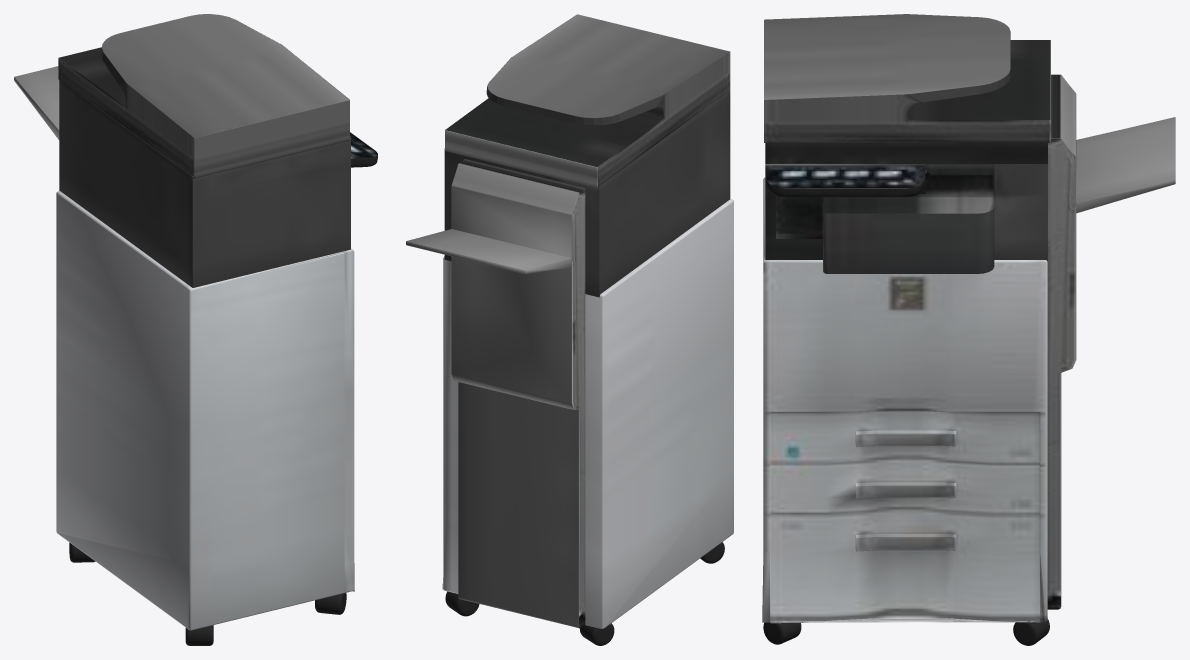
The model's file is printer_01_no cam.fbx.
The picture shows the model from 3 angles, left to right: view 1: azimuth 30°, elevation 25°; view 2: azimuth 150°, elevation 25°; view 3: azimuth 270°, elevation 25°; orthographic projection. The views are drawn at different scales.
Parts seen in each view (by area): view 1: printer_01, printer_01.002, printer_01.003, printer_01.001, Cylinder; view 2: printer_01.001, printer_01, printer_01.003, printer_01.002, Cylinder; view 3: printer_01, printer_01.002, printer_01.003, printer_01.001, Cylinder.
Boxes of the visible parts, x1,y1,x2,y2 form: printer_01: (56,191,354,630); printer_01.002: (59,79,377,287); printer_01.003: (58,14,349,178); printer_01.001: (14,66,59,140); Cylinder: (69,542,346,645); printer_01.001: (406,159,585,628); printer_01: (442,199,733,628); printer_01.003: (445,14,730,188); printer_01.002: (444,90,730,297); Cylinder: (445,542,724,645); printer_01: (762,177,1047,623); printer_01.002: (765,141,1047,273); printer_01.003: (764,14,1050,142); printer_01.001: (1047,74,1175,609); Cylinder: (763,619,1049,645).
Bounding box in the file's own units: 33.22 × 85.27 × 57.52.
Materials: 2 (1 with a texture image).
